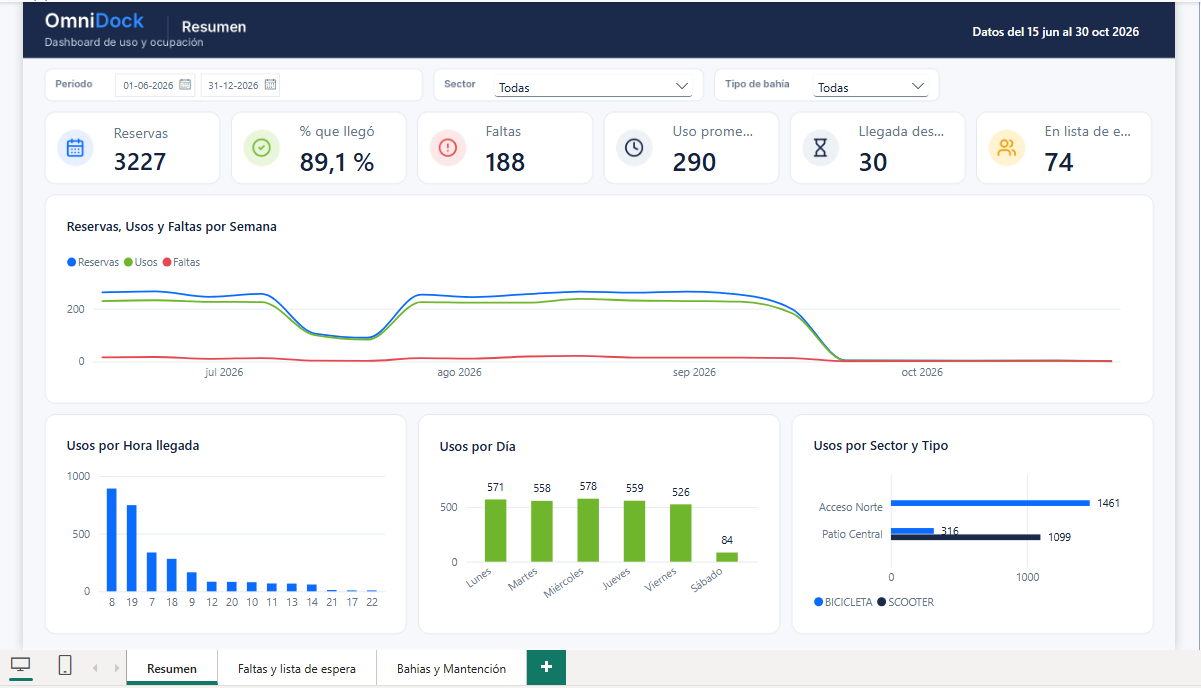

The dashboard page shown, as its layout file describes it:
{"tool":"powerbi","page":{"name":"Resumen","canvas":[1280,720],"ordinal":0},"visuals":[{"type":"slicer","fields":{"Values":["V_DIM_FECHA.FECHA"]},"box":[94,74,344,32],"z":0},{"type":"slicer","fields":{"Values":["V_DIM_BAHIA.SECTOR"]},"box":[518,74,232,32],"z":1000},{"type":"slicer","fields":{"Values":["V_DIM_BAHIA.TIPO_PERMITIDO"]},"box":[872,74,140,32],"z":2000},{"type":"cardVisual","fields":{"Data":["Medidas.Rango de datos"]},"box":[1000,16,256,32],"z":3000},{"type":"cardVisual","fields":{"Data":["Medidas.Reservas"]},"box":[84,132,129,64],"z":4000},{"type":"cardVisual","fields":{"Data":["Medidas.% que llegó"]},"box":[291,132.2,129,64],"z":5000},{"type":"cardVisual","fields":{"Data":["Medidas.Faltas"]},"box":[498,132.2,129,64],"z":6000},{"type":"cardVisual","fields":{"Data":["Medidas.Uso promedio (min)"]},"box":[705,132.2,129,64],"z":7000},{"type":"cardVisual","fields":{"Data":["Medidas.Llegada después de reservar (min)"]},"box":[912,132.2,129,64],"z":8000},{"type":"cardVisual","fields":{"Data":["Medidas.En lista de espera"]},"box":[1119,132.2,129,64],"z":9000},{"type":"lineChart","fields":{"Category":["V_DIM_FECHA.Semana"],"Y":["Medidas.Reservas","Medidas.Usos","Medidas.Faltas"]},"box":[32,224,1216,216],"z":10000},{"type":"columnChart","fields":{"Category":["V_HECHO_USO.HORA_INICIO"],"Y":["Medidas.Usos"]},"box":[32,468,386,228],"z":11000},{"type":"columnChart","fields":{"Category":["V_DIM_FECHA.NOMBRE_DIA"],"Y":["Medidas.Usos"]},"box":[447,469,386,228],"z":12000},{"type":"clusteredBarChart","fields":{"Category":["V_DIM_BAHIA.SECTOR"],"Series":["V_DIM_BAHIA.TIPO_PERMITIDO"],"Y":["Medidas.Usos"]},"box":[862,468,386,228],"z":13000}]}

Visuals, with their boxes on the page's 1280x720 design canvas (x1, y1, x2, y2). These are canvas units, not pixel positions in the 1201x688 screenshot, which may show the page scaled, cropped or inside an application window:
slicer - V_DIM_FECHA.FECHA: rect(94, 74, 438, 106)
slicer - V_DIM_BAHIA.SECTOR: rect(518, 74, 750, 106)
slicer - V_DIM_BAHIA.TIPO_PERMITIDO: rect(872, 74, 1012, 106)
cardVisual - Medidas.Rango de datos: rect(1000, 16, 1256, 48)
cardVisual - Medidas.Reservas: rect(84, 132, 213, 196)
cardVisual - Medidas.% que llegó: rect(291, 132, 420, 196)
cardVisual - Medidas.Faltas: rect(498, 132, 627, 196)
cardVisual - Medidas.Uso promedio (min): rect(705, 132, 834, 196)
cardVisual - Medidas.Llegada después de reservar (min): rect(912, 132, 1041, 196)
cardVisual - Medidas.En lista de espera: rect(1119, 132, 1248, 196)
lineChart - V_DIM_FECHA.Semana x Medidas.Reservas: rect(32, 224, 1248, 440)
columnChart - V_HECHO_USO.HORA_INICIO x Medidas.Usos: rect(32, 468, 418, 696)
columnChart - V_DIM_FECHA.NOMBRE_DIA x Medidas.Usos: rect(447, 469, 833, 697)
clusteredBarChart - V_DIM_BAHIA.SECTOR x V_DIM_BAHIA.TIPO_PERMITIDO: rect(862, 468, 1248, 696)
